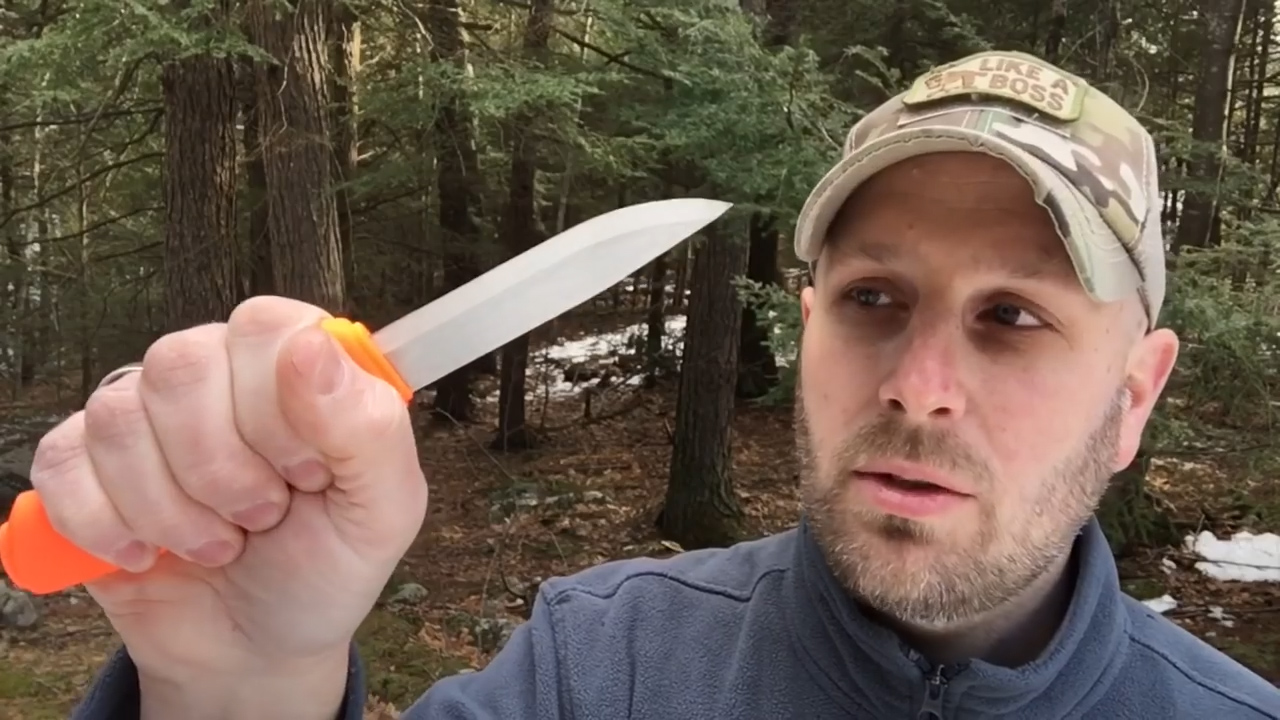knife: (138, 186, 749, 538)
